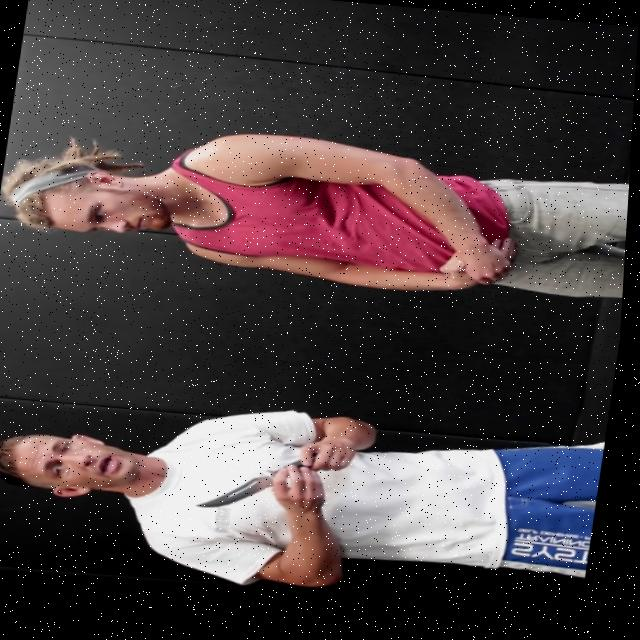knife: (200, 469, 281, 518)
